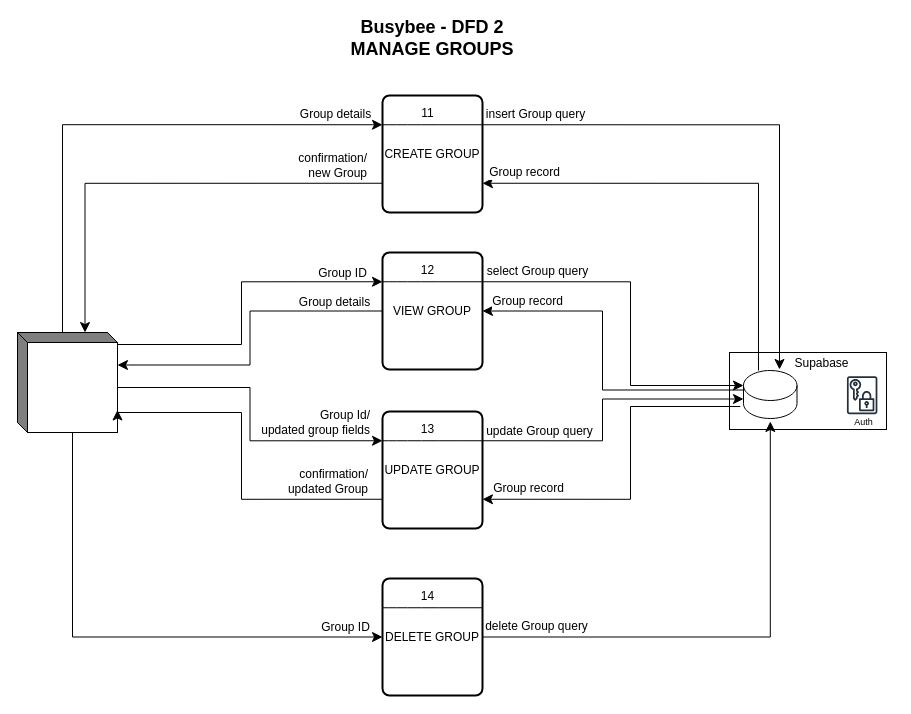
This 911x714 diagram has some shape labels left out. The shapes that lost their labels are listed below. From the top down, each one's centre as x and y in pixels, then its label:
At (x=67, y=382): "User".
At (x=769, y=394): "Postgres".
